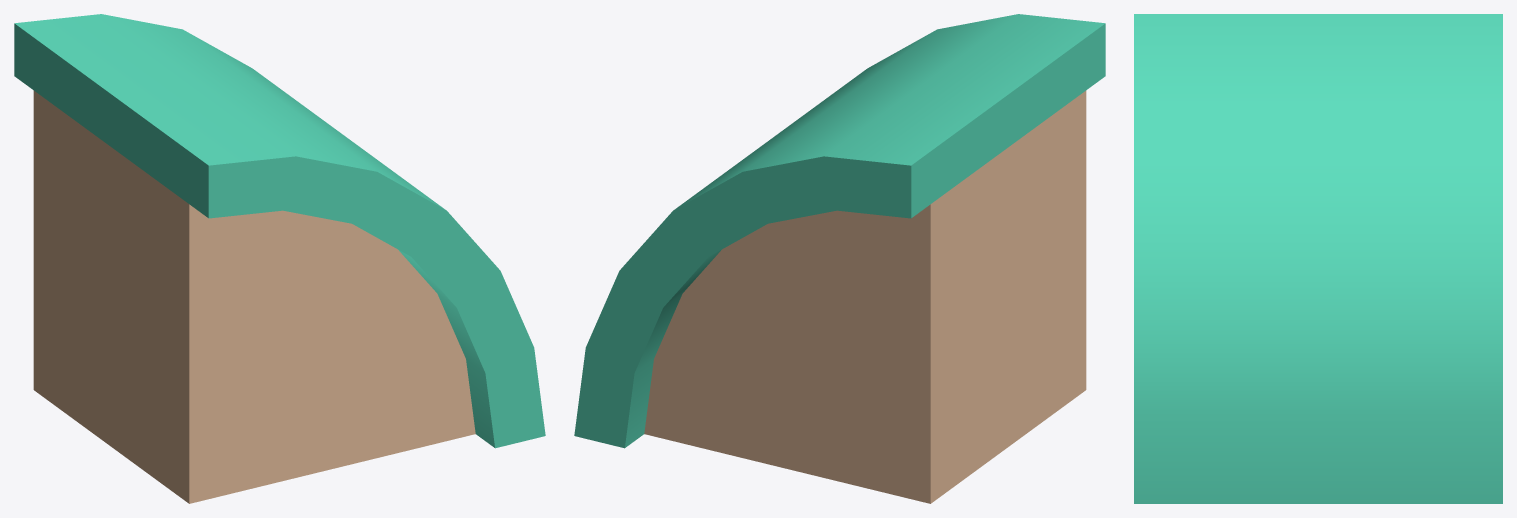
The model's file is blockCurveHalf.glb.
3 renders of one model, left to right at view 1: azimuth 30°, elevation 25°; view 2: azimuth 150°, elevation 25°; view 3: azimuth 270°, elevation 25°, orthographic. The views are drawn at different scales.
Visible parts, largest first — view 1: blockCurveHalf; view 2: blockCurveHalf; view 3: blockCurveHalf.
Boxes of the visible parts, x1,y1,x2,y2 form: blockCurveHalf: (14,14,545,503); blockCurveHalf: (574,14,1105,503); blockCurveHalf: (1134,14,1502,503).
Size of the model in its own units: 1 by 1 by 1.
